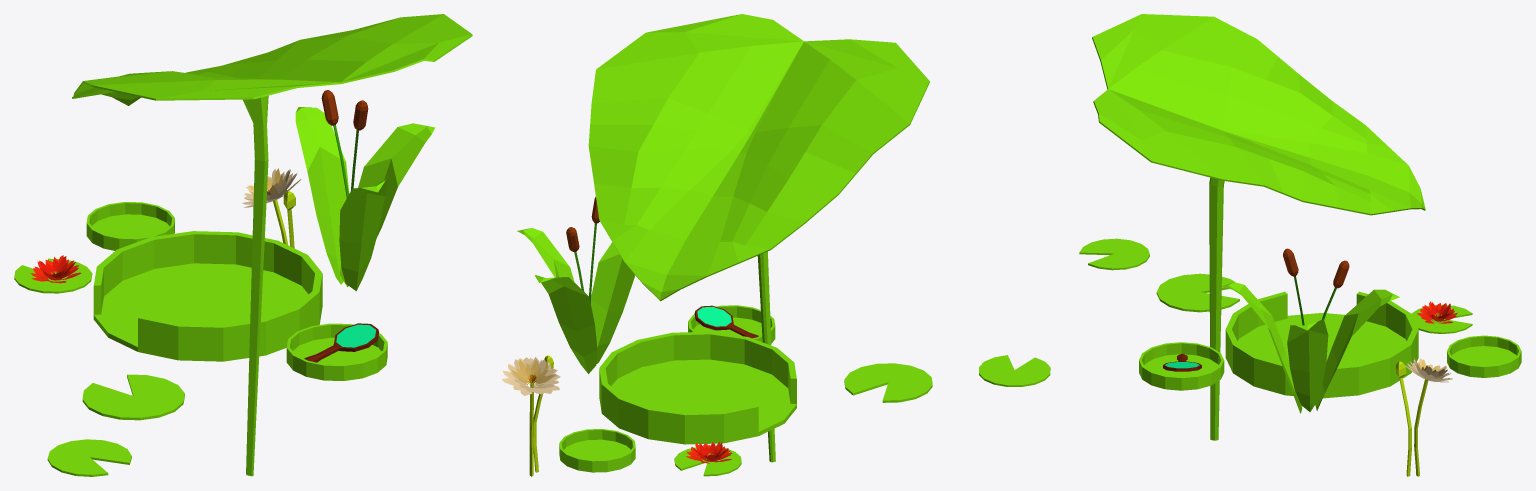
The model's file is SwampHouse.fbx.
The picture shows the model from 3 angles, left to right: view 1: azimuth 30°, elevation 25°; view 2: azimuth 150°, elevation 25°; view 3: azimuth 270°, elevation 25°; orthographic projection. The views are drawn at different scales.
Parts seen in each view (by area): view 1: Circle.010, Circle.011, Circle, Circle.014, Circle.008, Circle.015, Circle.006, Circle.007, Circle.009, Circle.005, Cylinder.012, Circle.012 (+1 smaller); view 2: Circle.011, Circle.010, Circle, Circle.008, Circle.006, Circle.015, Circle.009, Circle.013, Circle.014, Circle.007, Circle.005, Cylinder.012 (+1 smaller); view 3: Circle.011, Circle.010, Circle.014, Circle.007, Circle.006, Circle.015, Circle, Circle.009, Circle.008, Circle.005, Circle.013, Circle.012 (+1 smaller).
Part boxes in pixels (<box>): Circle.010: <box>93,231,322,361</box>; Circle.011: <box>72,14,472,476</box>; Circle: <box>295,107,349,284</box>; Circle.014: <box>286,323,387,380</box>; Circle.008: <box>339,177,388,291</box>; Circle.015: <box>82,374,184,420</box>; Circle.006: <box>86,202,174,250</box>; Circle.007: <box>339,123,435,286</box>; Circle.009: <box>47,439,131,476</box>; Circle.005: <box>14,258,92,293</box>; Cylinder.012: <box>304,323,378,362</box>; Circle.012: <box>30,255,81,283</box>; Circle.011: <box>588,14,929,462</box>; Circle.010: <box>599,331,796,444</box>; Circle: <box>535,275,597,373</box>; Circle.008: <box>591,242,635,363</box>; Circle.006: <box>559,429,635,472</box>; Circle.015: <box>844,363,932,402</box>; Circle.009: <box>979,355,1050,386</box>; Circle.013: <box>502,357,560,395</box>; Circle.014: <box>688,305,775,343</box>; Circle.007: <box>517,228,574,282</box>; Circle.005: <box>674,447,741,476</box>; Cylinder.012: <box>694,305,758,338</box>; Circle.011: <box>1092,14,1425,440</box>; Circle.010: <box>1225,291,1418,398</box>; Circle.014: <box>1139,342,1224,390</box>; Circle.007: <box>1287,319,1328,411</box>; Circle.006: <box>1447,335,1521,377</box>; Circle.015: <box>1156,273,1239,312</box>; Circle: <box>1315,289,1399,410</box>; Circle.009: <box>1079,238,1149,270</box>; Circle.008: <box>1221,282,1302,413</box>; Circle.005: <box>1411,304,1472,333</box>; Circle.013: <box>1405,357,1452,382</box>; Circle.012: <box>1417,301,1457,323</box>.
Size of the model in its own units: 7397 by 6355 by 6806.
